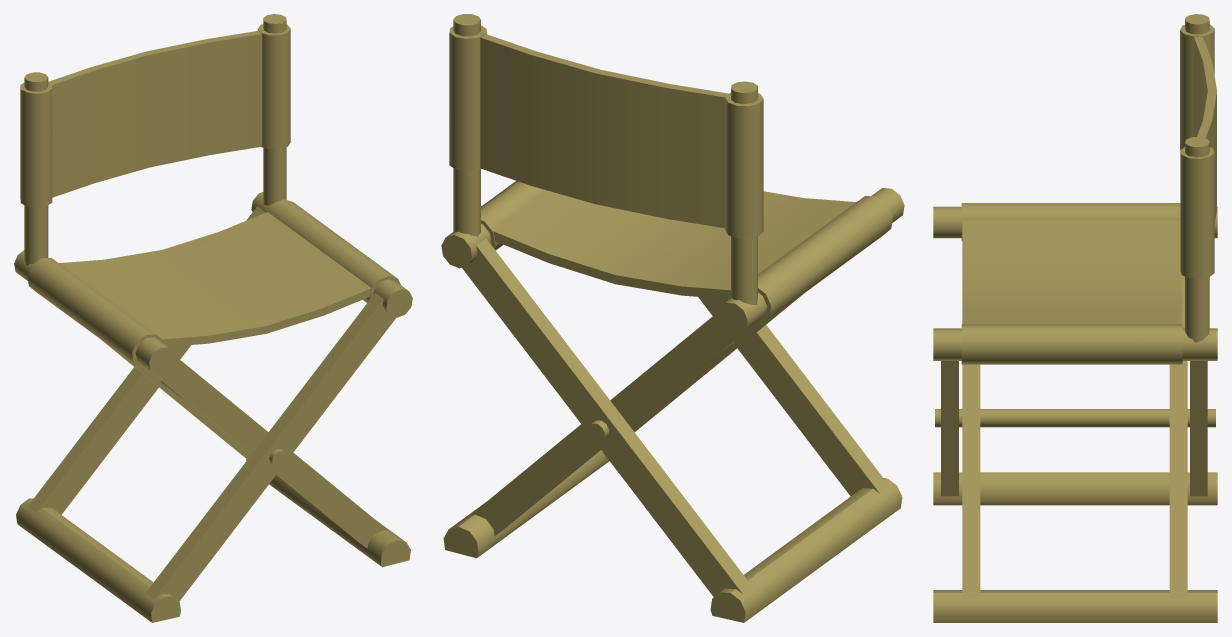
File: Chair_Studio.fbx
3 views of the same model, side by side, from view 1: azimuth 30°, elevation 25°; view 2: azimuth 150°, elevation 25°; view 3: azimuth 270°, elevation 25° (orthographic). The views are drawn at different scales.
Visible parts, largest first — view 1: Chair_Studio; view 2: Chair_Studio; view 3: Chair_Studio.
Part boxes in pixels (x1=…): Chair_Studio: x1=14, y1=14, x2=412, y2=622; Chair_Studio: x1=441, y1=14, x2=904, y2=622; Chair_Studio: x1=933, y1=14, x2=1217, y2=622.
Bounding box in the file's own units: 56.58 × 90.49 × 48.96.
